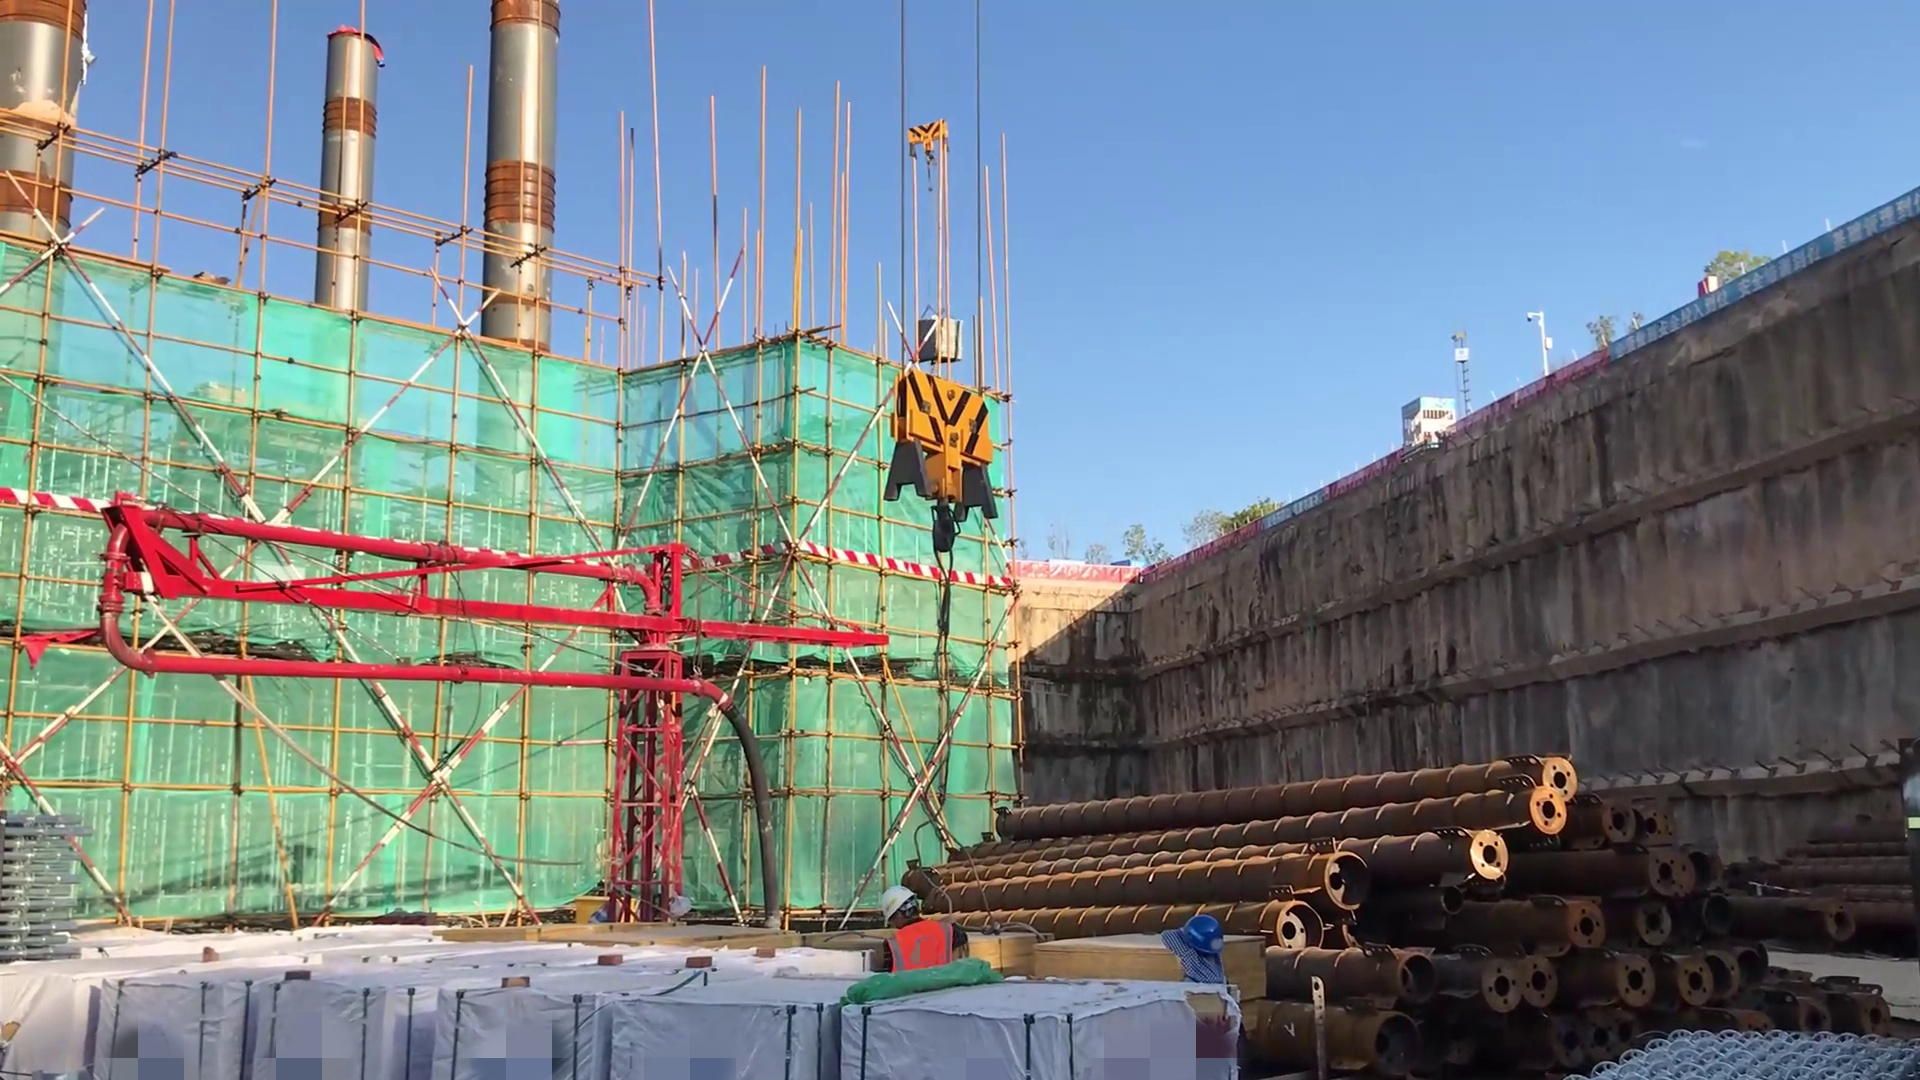board: (1036, 929, 1274, 981), (955, 931, 1057, 976)
ebox: (568, 882, 644, 939)
helmet: (1166, 909, 1234, 970), (879, 881, 940, 944)
hook: (868, 351, 1019, 592), (902, 114, 970, 201)
person: (863, 886, 996, 1000)
scaffold: (1566, 991, 1920, 1078), (1, 798, 87, 964)
slogan: (1594, 180, 1920, 367), (1261, 482, 1345, 541)
vest: (880, 922, 959, 986)
